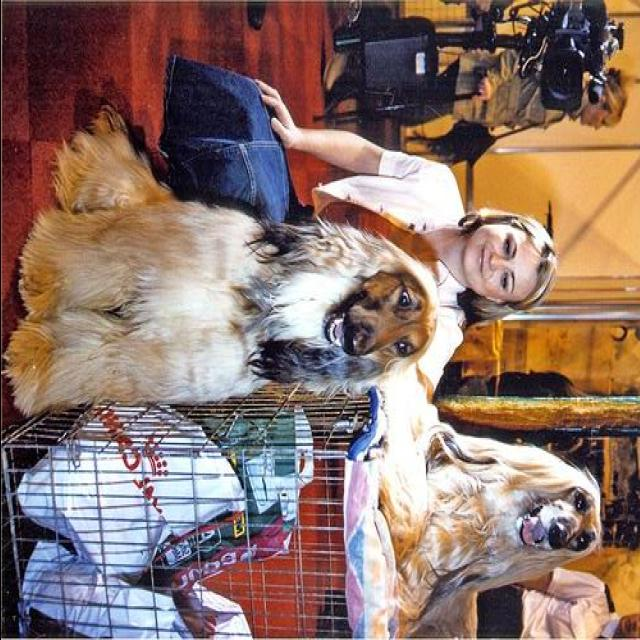afghan_hound: (2, 104, 436, 416), (376, 407, 602, 632)
